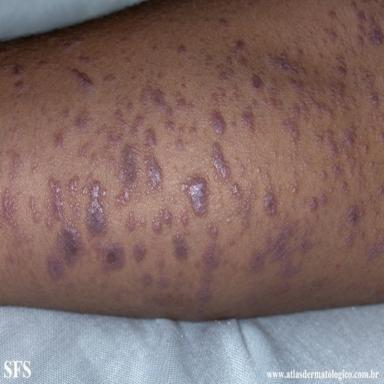lichen: (247, 211, 315, 277), (281, 78, 334, 144), (106, 142, 144, 207), (197, 223, 218, 316), (2, 189, 30, 248), (82, 177, 107, 241), (90, 237, 125, 275), (140, 78, 173, 118), (181, 173, 209, 217), (144, 128, 162, 195), (266, 49, 306, 75), (57, 222, 80, 264), (235, 180, 255, 227), (46, 178, 64, 229), (96, 124, 123, 158), (359, 67, 379, 109), (211, 143, 231, 182), (329, 80, 351, 114), (338, 121, 355, 159), (67, 68, 94, 91), (241, 98, 258, 134), (7, 151, 23, 187), (368, 10, 384, 45), (151, 208, 173, 233), (214, 56, 233, 81), (263, 185, 277, 217), (173, 232, 189, 259), (365, 237, 384, 259), (345, 205, 363, 227), (210, 111, 226, 135), (175, 92, 193, 113), (48, 254, 63, 279), (74, 111, 92, 131), (229, 85, 245, 106), (29, 196, 41, 223), (325, 129, 337, 156), (153, 290, 173, 306), (129, 116, 144, 137), (329, 10, 345, 29), (211, 87, 227, 106), (133, 239, 146, 262), (331, 161, 345, 181), (335, 54, 347, 77), (60, 36, 83, 48), (67, 175, 79, 196), (251, 74, 265, 92), (367, 195, 378, 215), (263, 98, 283, 109), (126, 213, 137, 232), (115, 109, 126, 127), (231, 183, 243, 199), (79, 142, 91, 158), (315, 129, 325, 148), (324, 28, 337, 42), (12, 63, 25, 76), (70, 203, 81, 218), (141, 272, 152, 287), (344, 232, 355, 247), (356, 8, 367, 23), (79, 55, 93, 66), (156, 255, 165, 272), (179, 209, 188, 226), (124, 97, 133, 114), (357, 24, 367, 38), (55, 134, 63, 151), (309, 196, 318, 211), (341, 181, 349, 197), (166, 120, 175, 134), (319, 192, 328, 206), (290, 181, 299, 195), (15, 80, 25, 92), (61, 105, 70, 118), (91, 152, 99, 166), (157, 278, 168, 288), (235, 41, 245, 52), (103, 74, 115, 83), (177, 45, 186, 57), (377, 183, 384, 198), (348, 1, 357, 12), (357, 36, 365, 48), (356, 229, 365, 239), (138, 216, 146, 227), (189, 126, 197, 137), (320, 170, 328, 181), (205, 55, 213, 66), (176, 138, 183, 150), (219, 18, 228, 27), (347, 157, 355, 167), (239, 57, 247, 67), (38, 61, 48, 68), (373, 227, 380, 236), (296, 47, 304, 54), (179, 126, 185, 135)
